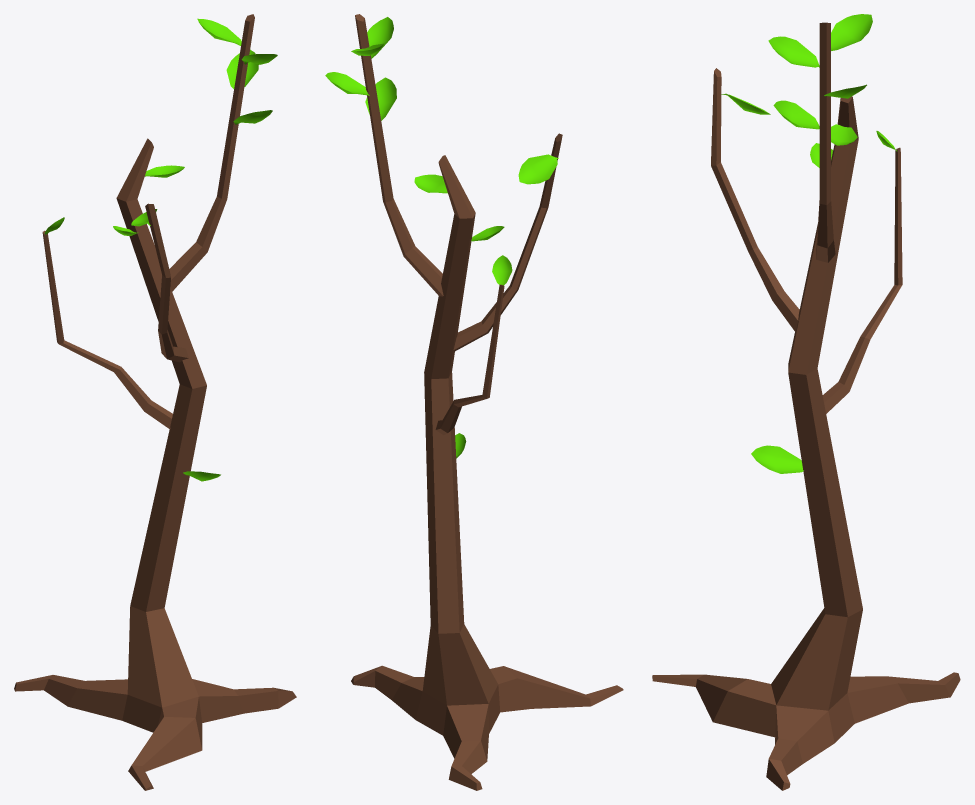
The model's file is BabyTree.fbx.
3 views of the same model, side by side, from view 1: azimuth 30°, elevation 25°; view 2: azimuth 150°, elevation 25°; view 3: azimuth 270°, elevation 25° (orthographic). The views are drawn at different scales.
Visible parts, largest first — view 1: Cylinder.009; view 2: Cylinder.009; view 3: Cylinder.009.
Part boxes in pixels (box(x1,y1,x2,y2)): Cylinder.009: box(14, 14, 296, 790); Cylinder.009: box(325, 14, 623, 790); Cylinder.009: box(652, 14, 960, 790).
Bounding box in the file's own units: 90.4 × 277 × 103.
